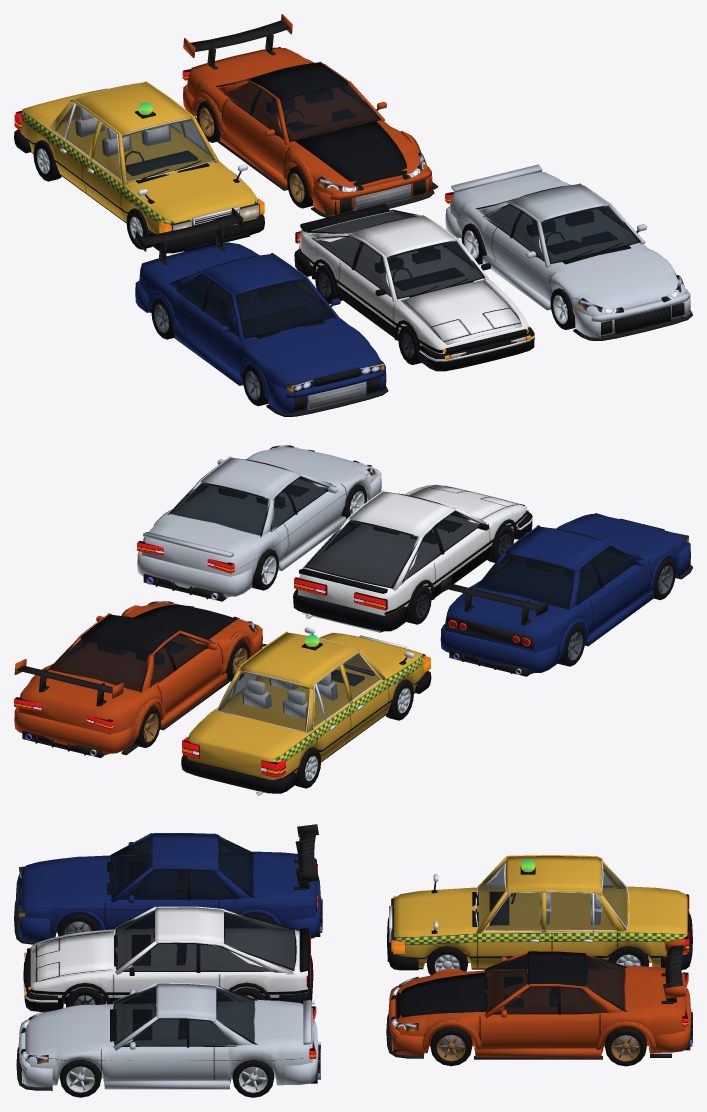
The model's file is tokyo_fleet.glb.
3 views of the same model, one above another, from view 1: azimuth 30°, elevation 25°; view 2: azimuth 150°, elevation 25°; view 3: azimuth 270°, elevation 25° (orthographic). The views are drawn at different scales.
Parts seen in each view (by area): view 1: DriftWidebodyOrange_Body, GtrMidnightBlue_Body, TunerPearlSilver_Body, CrownComfortTaxi_Body, PandaHatch86_Body, PandaHatch86_Glass, CrownComfortTaxi_Glass, GtrMidnightBlue_Glass, PandaHatch86_Trim, TunerPearlSilver_Glass, DriftWidebodyOrange_Glass, GtrMidnightBlue_Trim (+17 smaller); view 2: GtrMidnightBlue_Body, DriftWidebodyOrange_Body, TunerPearlSilver_Body, CrownComfortTaxi_Body, PandaHatch86_Body, PandaHatch86_Glass, CrownComfortTaxi_Glass, GtrMidnightBlue_Glass, TunerPearlSilver_Glass, PandaHatch86_Trim, DriftWidebodyOrange_Glass, GtrMidnightBlue_Trim (+15 smaller); view 3: DriftWidebodyOrange_Body, TunerPearlSilver_Body, CrownComfortTaxi_Body, GtrMidnightBlue_Body, PandaHatch86_Body, PandaHatch86_Glass, CrownComfortTaxi_Glass, GtrMidnightBlue_Glass, TunerPearlSilver_Glass, DriftWidebodyOrange_Glass, PandaHatch86_Trim, DriftWidebodyOrange_Trim (+16 smaller).
Boxes of the visible parts, x1,y1,x2,y2 form: DriftWidebodyOrange_Body: (183,14,432,215); GtrMidnightBlue_Body: (135,242,386,413); TunerPearlSilver_Body: (445,164,690,337); CrownComfortTaxi_Body: (20,81,257,233); PandaHatch86_Body: (299,211,534,361); PandaHatch86_Glass: (306,211,483,299); CrownComfortTaxi_Glass: (55,103,214,182); GtrMidnightBlue_Glass: (172,257,334,338); PandaHatch86_Trim: (294,203,534,371); TunerPearlSilver_Glass: (478,187,640,264); DriftWidebodyOrange_Glass: (218,66,380,141); GtrMidnightBlue_Trim: (135,208,388,416); GtrMidnightBlue_Body: (440,514,690,673); DriftWidebodyOrange_Body: (14,602,262,755); TunerPearlSilver_Body: (137,447,381,598); CrownComfortTaxi_Body: (187,631,424,793); PandaHatch86_Body: (298,484,532,632); PandaHatch86_Glass: (304,495,479,588); CrownComfortTaxi_Glass: (218,653,380,731); GtrMidnightBlue_Glass: (478,530,636,608); TunerPearlSilver_Glass: (170,460,327,535); PandaHatch86_Trim: (293,493,532,631); DriftWidebodyOrange_Glass: (49,618,207,691); GtrMidnightBlue_Trim: (440,518,692,676); DriftWidebodyOrange_Body: (388,939,691,1057); TunerPearlSilver_Body: (18,982,318,1089); CrownComfortTaxi_Body: (394,855,687,969); GtrMidnightBlue_Body: (16,833,321,941); PandaHatch86_Body: (23,906,307,1009); PandaHatch86_Glass: (115,910,295,971); CrownComfortTaxi_Glass: (477,861,627,931); GtrMidnightBlue_Glass: (110,836,253,898); TunerPearlSilver_Glass: (113,986,255,1046); DriftWidebodyOrange_Glass: (485,953,625,1014); PandaHatch86_Trim: (23,910,314,1011); DriftWidebodyOrange_Trim: (386,945,692,1059).
Size of the model in its own units: 7.37 by 1.69 by 10.42.
10 materials, 10 textured.
